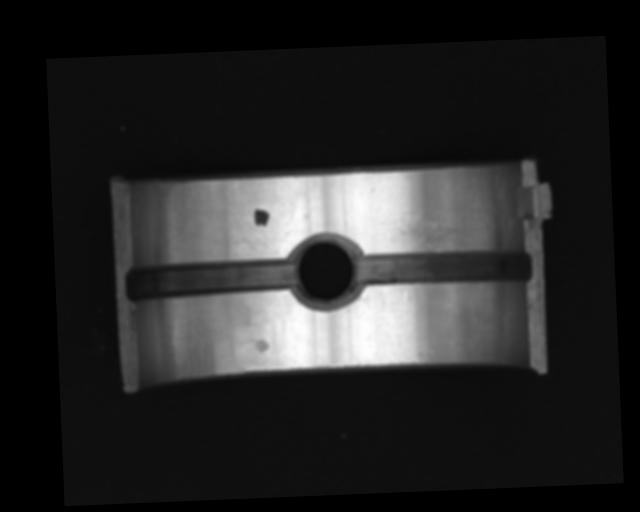blot: (253, 208, 270, 228)
bruise: (253, 337, 269, 353)
gap: (355, 247, 534, 289), (125, 257, 296, 299)
hole: (287, 235, 362, 307)
nick: (395, 289, 408, 346)
scratch: (398, 208, 478, 251)
